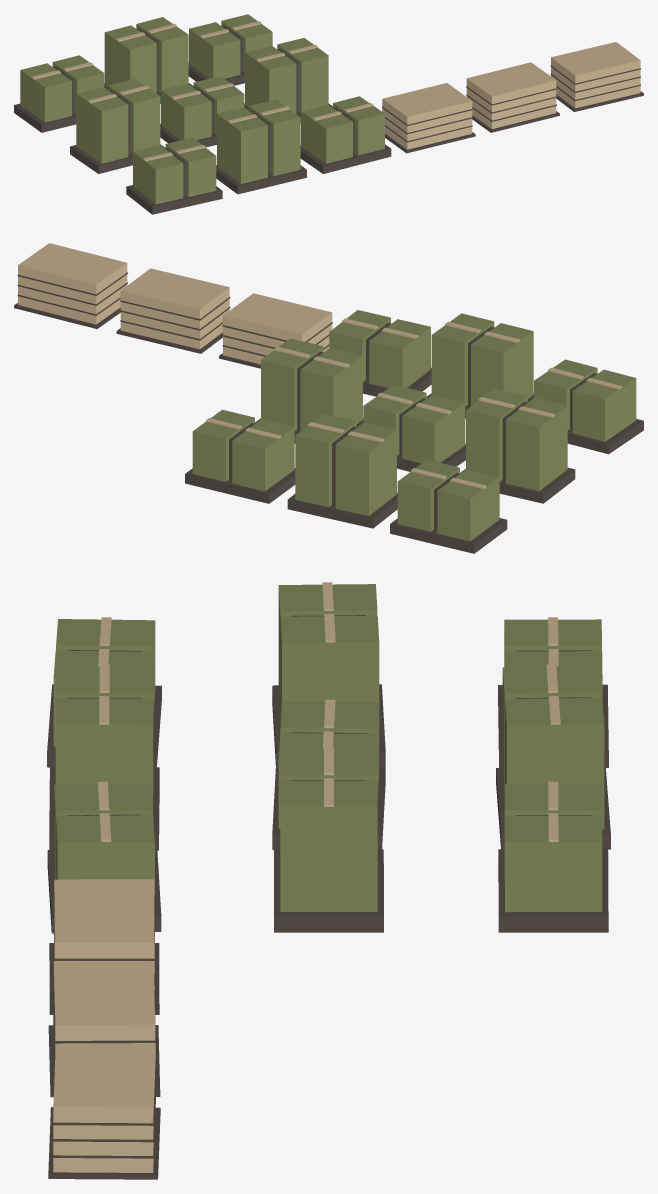
Rendered from SM_AcopioMunicion_v1_Mitad_LOD1.fbx.
3 views of the same model, one above another, from view 1: azimuth 30°, elevation 25°; view 2: azimuth 150°, elevation 25°; view 3: azimuth 270°, elevation 25° (orthographic). The views are drawn at different scales.
Parts seen in each view (by area): view 1: SM_acopio_carga_v1_LOD1; view 2: SM_acopio_carga_v1_LOD1; view 3: SM_acopio_carga_v1_LOD1.
Boxes of the visible parts, <box> form: SM_acopio_carga_v1_LOD1: <box>14,14,643,214</box>; SM_acopio_carga_v1_LOD1: <box>14,243,643,553</box>; SM_acopio_carga_v1_LOD1: <box>47,582,610,1179</box>.
Size of the model in its own units: 9.1 by 1.09 by 4.52.
